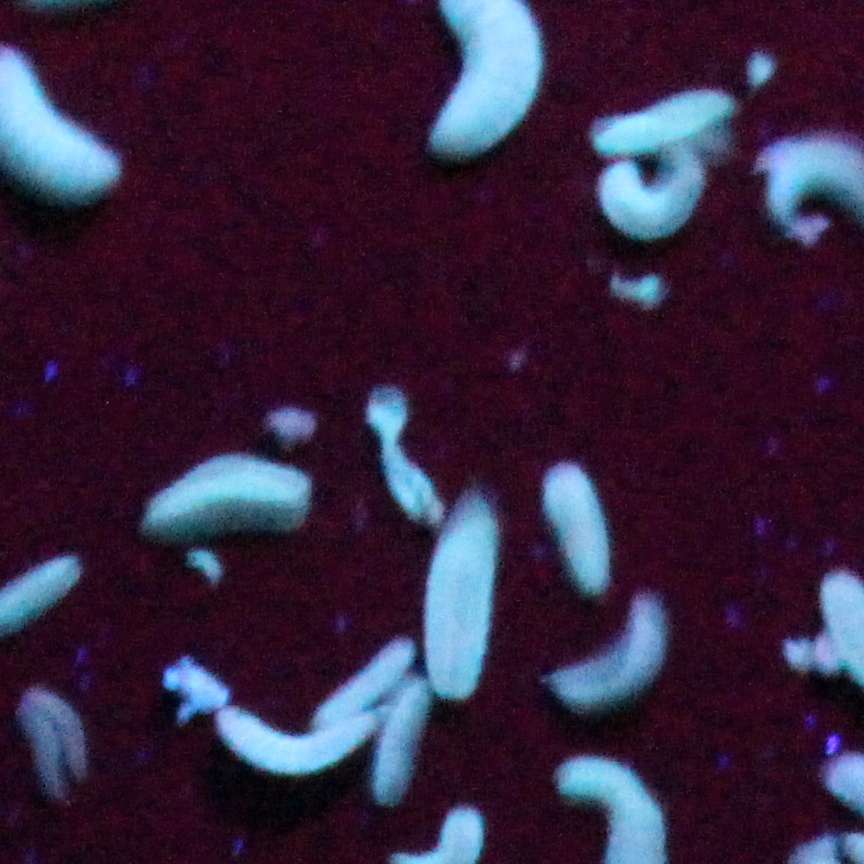larve: (424, 495, 495, 704), (547, 595, 668, 710), (139, 456, 312, 526), (218, 710, 381, 770), (306, 639, 414, 729), (601, 143, 697, 241), (543, 464, 610, 601), (593, 91, 733, 149), (366, 679, 429, 801)
